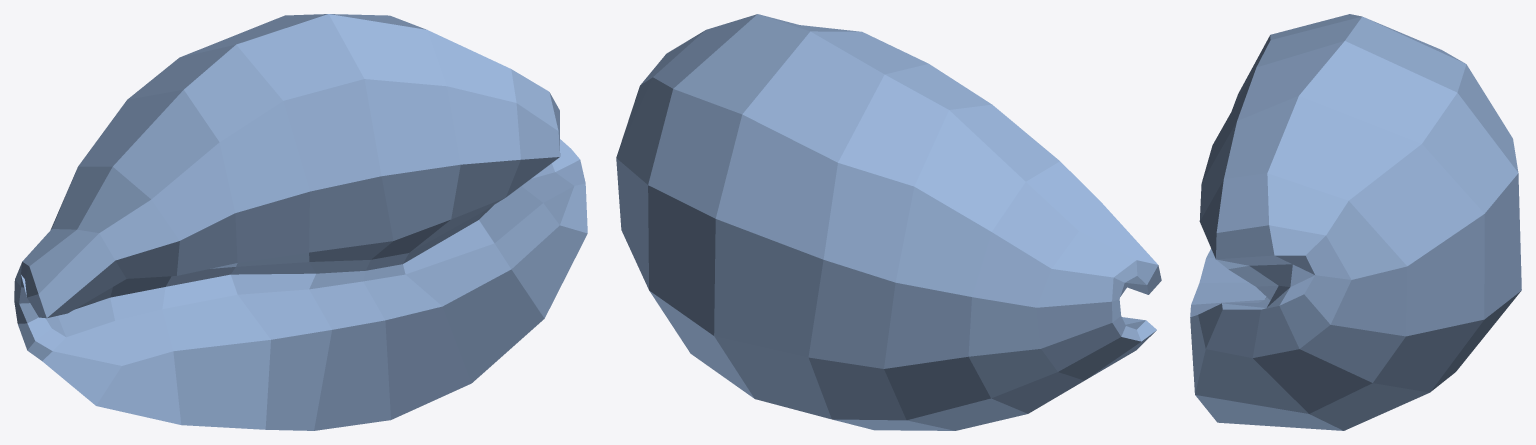
Rendered from Coral_12.fbx.
3 views of the same model, side by side, from view 1: azimuth 30°, elevation 25°; view 2: azimuth 150°, elevation 25°; view 3: azimuth 270°, elevation 25° (orthographic).
Parts seen in each view (by area): view 1: Coral_12; view 2: Coral_12; view 3: Coral_12.
Part boxes in pixels (<box>): Coral_12: <box>14,14,587,430</box>; Coral_12: <box>616,14,1161,430</box>; Coral_12: <box>1190,14,1521,430</box>.
Size of the model in its own units: 38.54 by 26.41 by 20.83.
